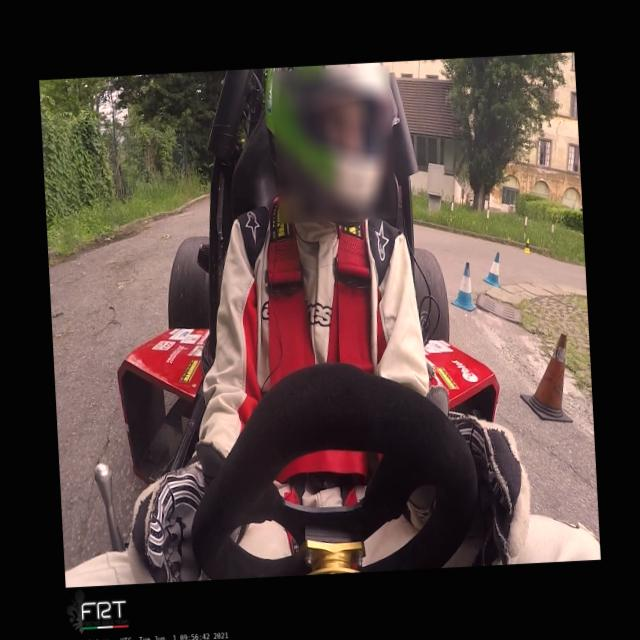blue_cone: (449, 262, 477, 312), (482, 252, 501, 288)
unknown_cone: (518, 333, 573, 425)
yellow_cone: (522, 238, 532, 255)
